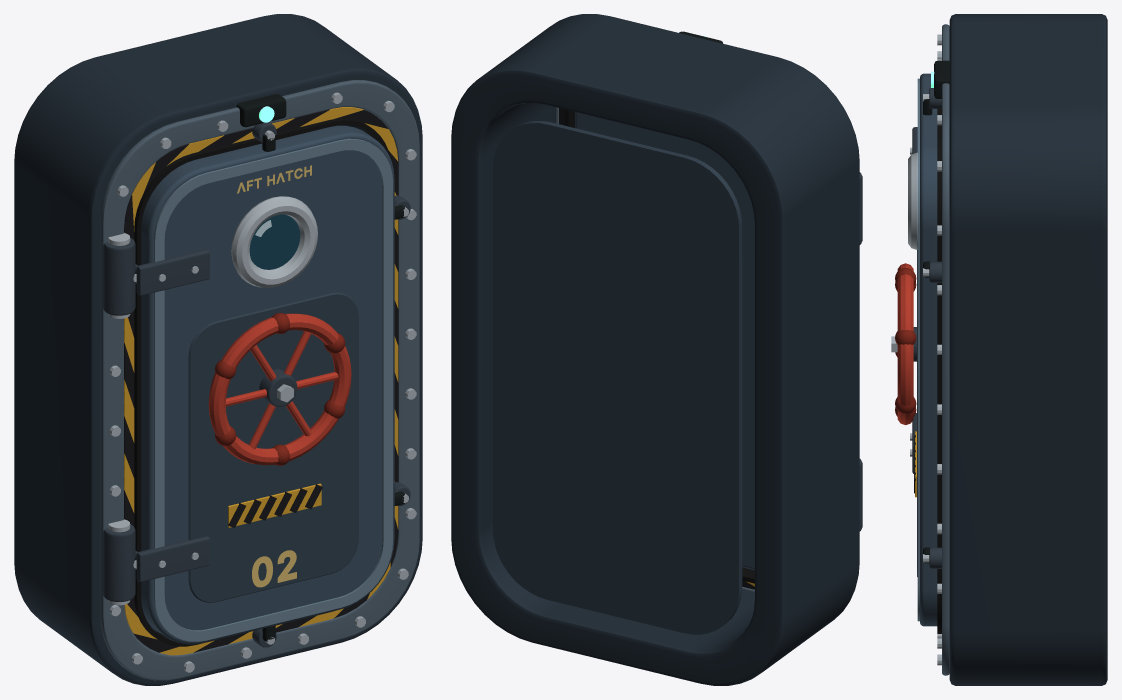
3 views of the same model, side by side, from view 1: azimuth 30°, elevation 25°; view 2: azimuth 150°, elevation 25°; view 3: azimuth 270°, elevation 25° (orthographic).
Parts seen in each view (by area): view 1: sub_bulkhead_door; view 2: sub_bulkhead_door; view 3: sub_bulkhead_door.
Boxes of the visible parts, <box> form: sub_bulkhead_door: <box>14,14,422,685</box>; sub_bulkhead_door: <box>451,14,862,685</box>; sub_bulkhead_door: <box>891,14,1107,685</box>.
Bounding box in the file's own units: 1.22 × 2 × 0.6849.
